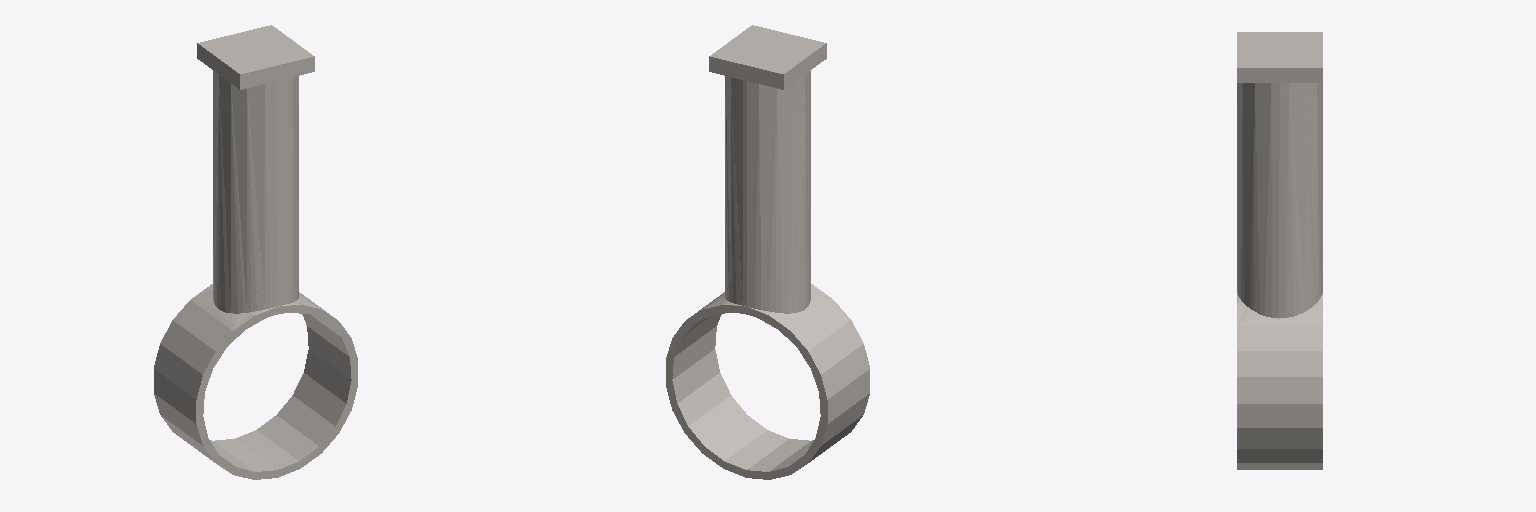
The model's file is fos_homut.obj.
3 views of the same model, side by side, from view 1: azimuth 30°, elevation 25°; view 2: azimuth 150°, elevation 25°; view 3: azimuth 270°, elevation 25° (orthographic).
Visible parts, largest first — view 1: ________0; view 2: ________0; view 3: ________0.
Part boxes in pixels (bbox=[...]): ________0: bbox=[154, 25, 357, 479]; ________0: bbox=[666, 25, 869, 479]; ________0: bbox=[1237, 32, 1322, 469].
Size of the model in its own units: 0.0022 by 0.0053 by 0.001.